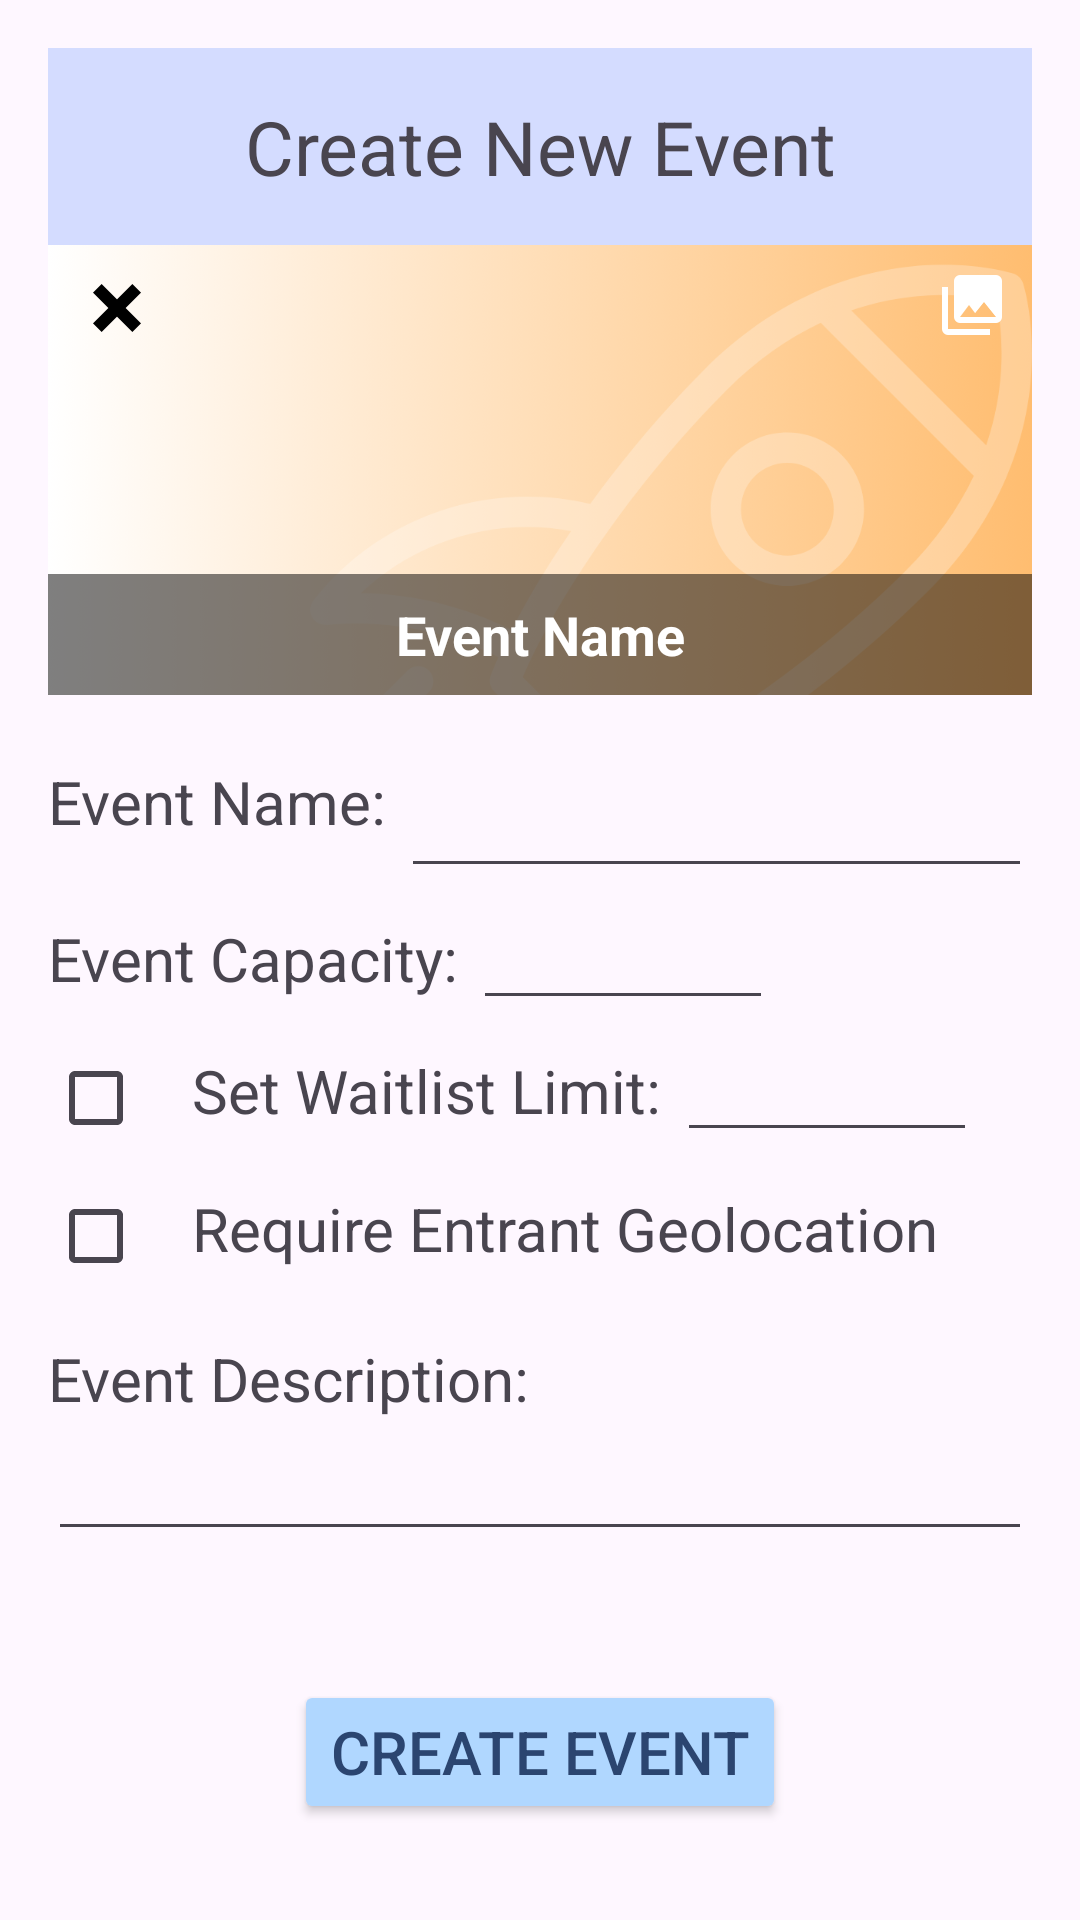

Named icons in this screenshot (1080w x 1920h) and their centers, (x=x, y=y):
multiple: (x=972, y=305)
